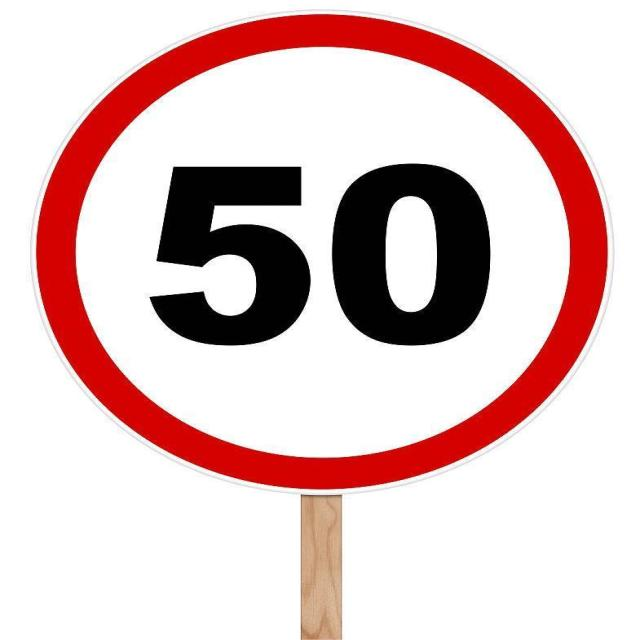speed limit 50: (33, 10, 612, 497)
